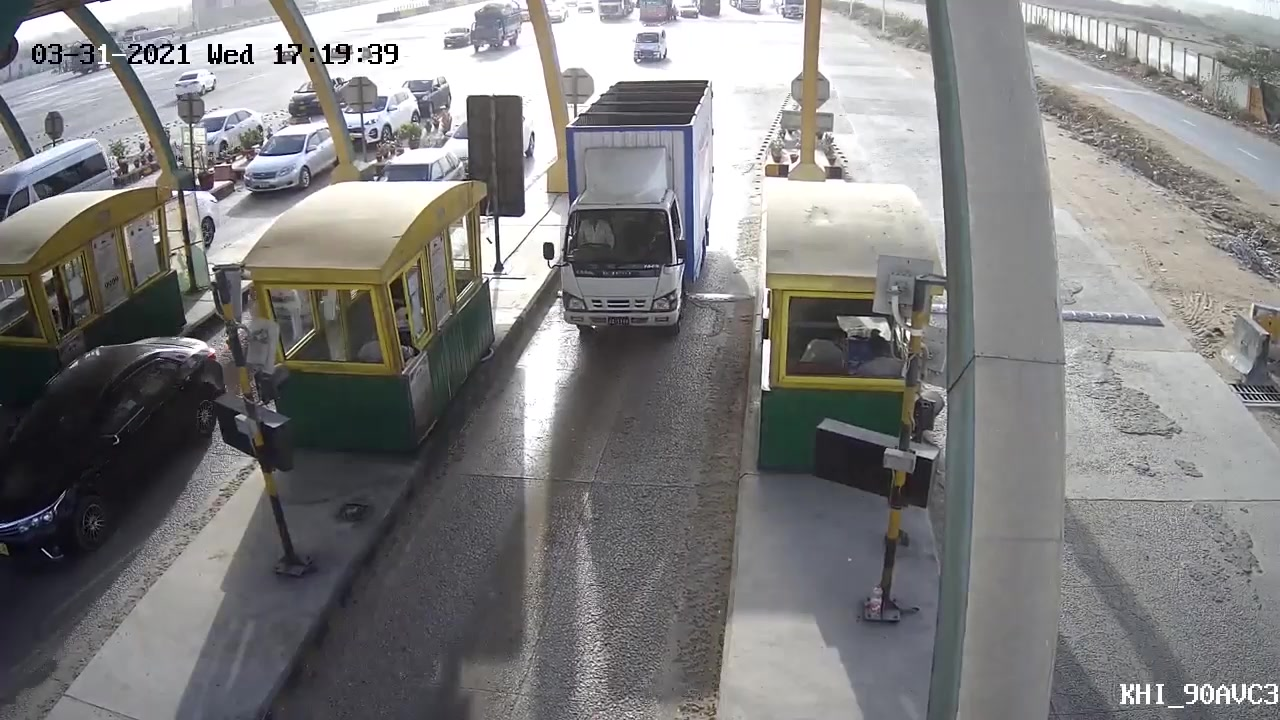F5: (521, 72, 743, 377)
